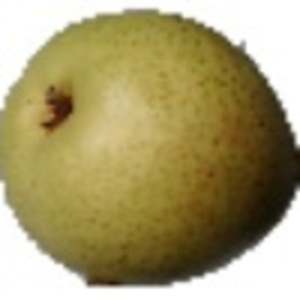pera: (1, 7, 300, 289)
